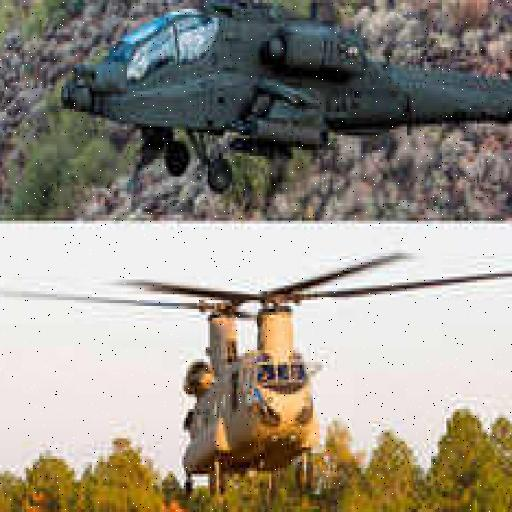helicopter: (20, 1, 512, 207), (130, 230, 381, 512)
